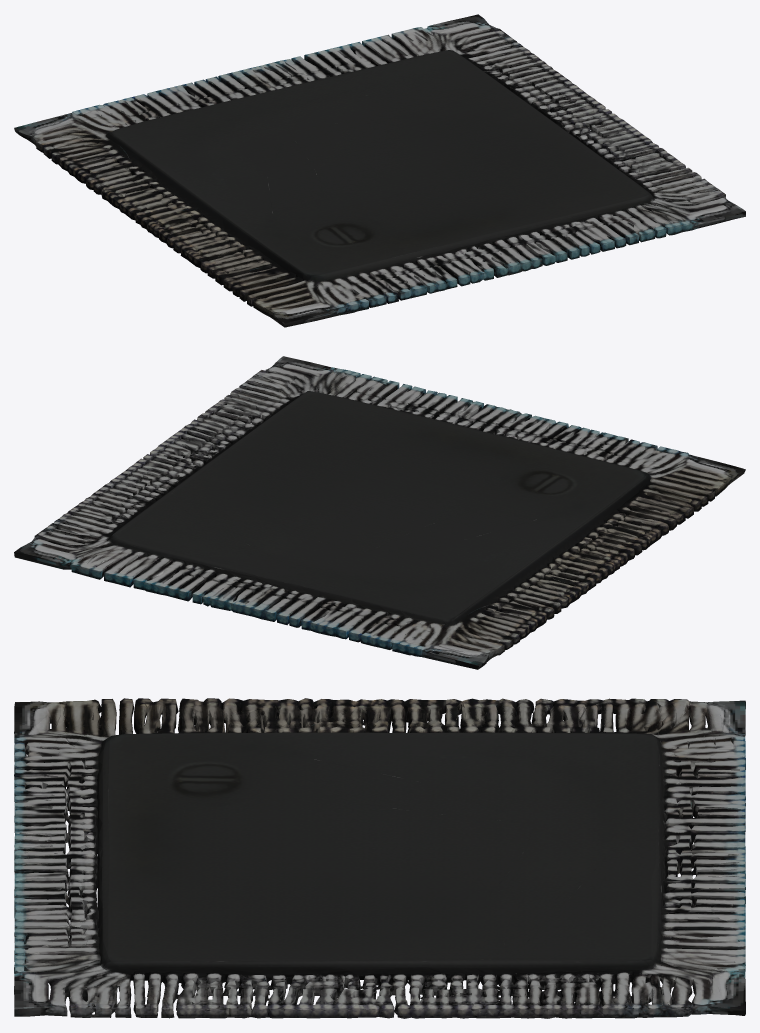
3 views of the same model, one above another, from view 1: azimuth 30°, elevation 25°; view 2: azimuth 150°, elevation 25°; view 3: azimuth 270°, elevation 25° (orthographic). The views are drawn at different scales.
Parts seen in each view (by area): view 1: world; view 2: world; view 3: world.
Part boxes in pixels (box(x1,y1,x2,y2)): world: box(14, 14, 745, 327); world: box(14, 356, 745, 669); world: box(14, 698, 745, 1018).
Bounding box in the file's own units: 1 × 0.0276 × 1.
Materials: 1 (1 with a texture image).
